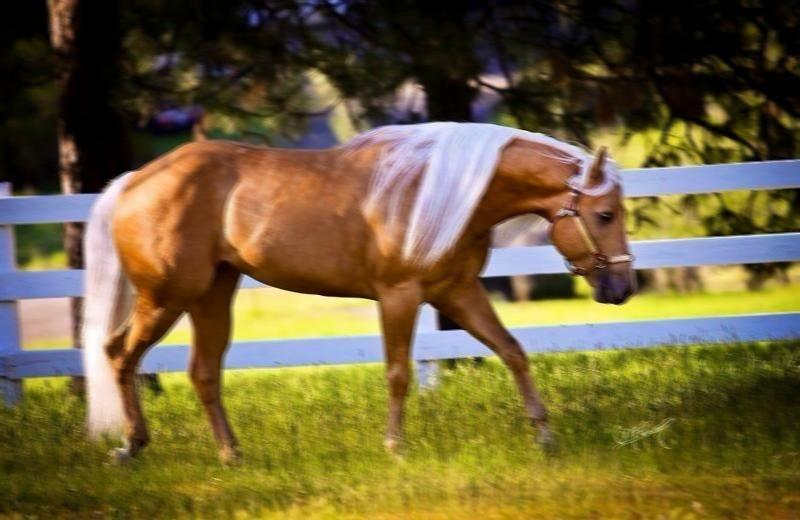horse: (74, 118, 640, 469)
